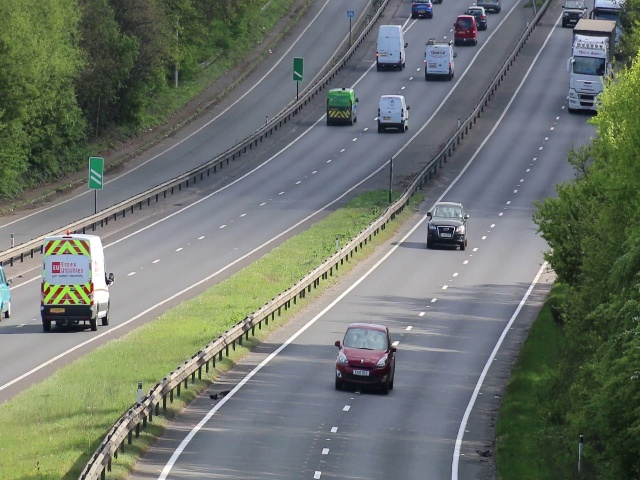car: (42, 231, 112, 337), (335, 322, 393, 394), (573, 38, 603, 117), (425, 200, 468, 252), (376, 22, 406, 73), (423, 40, 456, 81), (326, 87, 359, 127), (377, 94, 409, 134), (451, 14, 479, 44), (562, 1, 584, 23)
